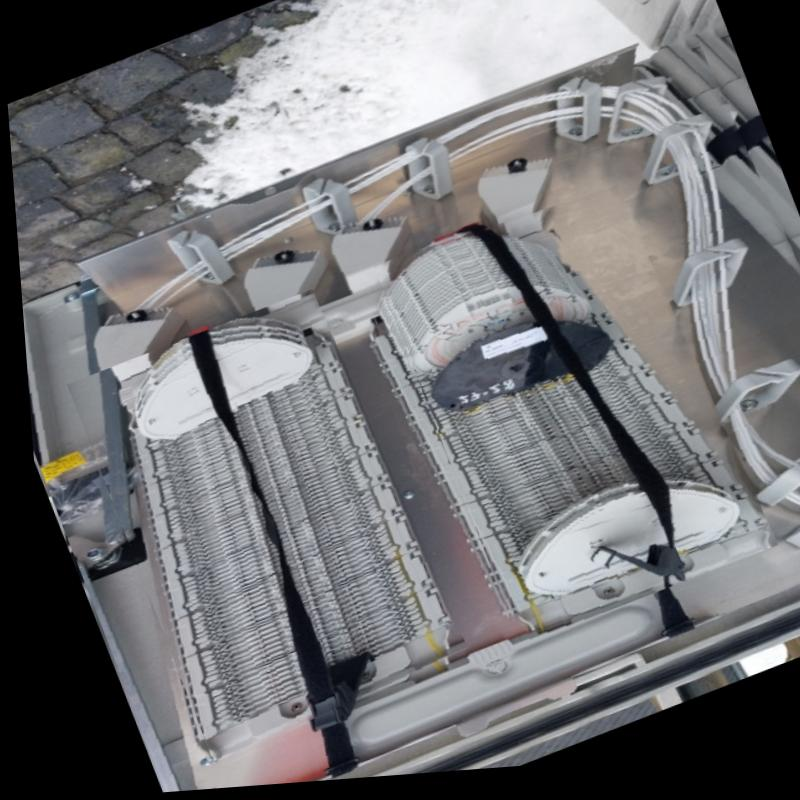NT-Gehause: (17, 0, 800, 794)
Spleiskassetten: (380, 232, 768, 650), (126, 322, 453, 765)
